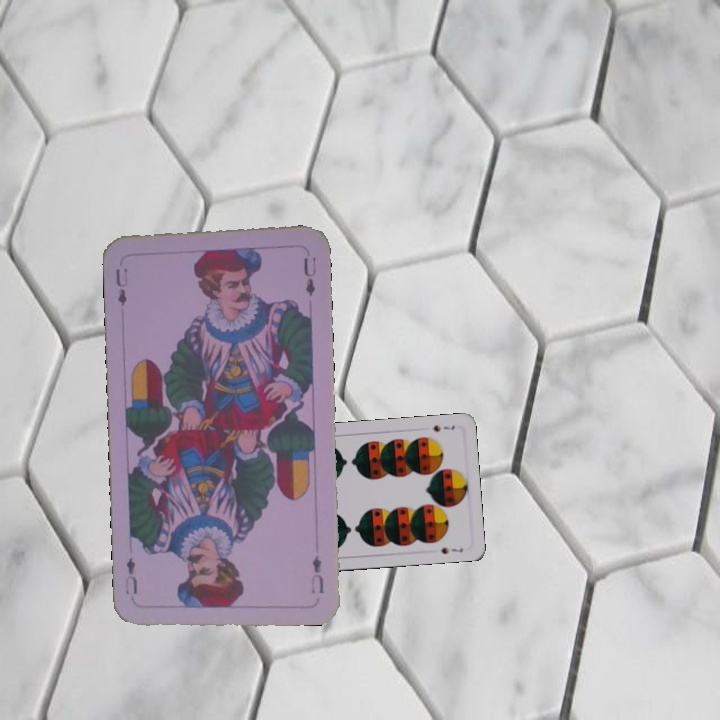EU: (307, 552, 327, 597), (112, 264, 130, 309)
S7: (429, 421, 457, 434)
